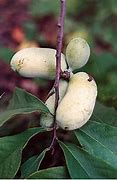papaya: (58, 72, 97, 130), (11, 47, 67, 79)
